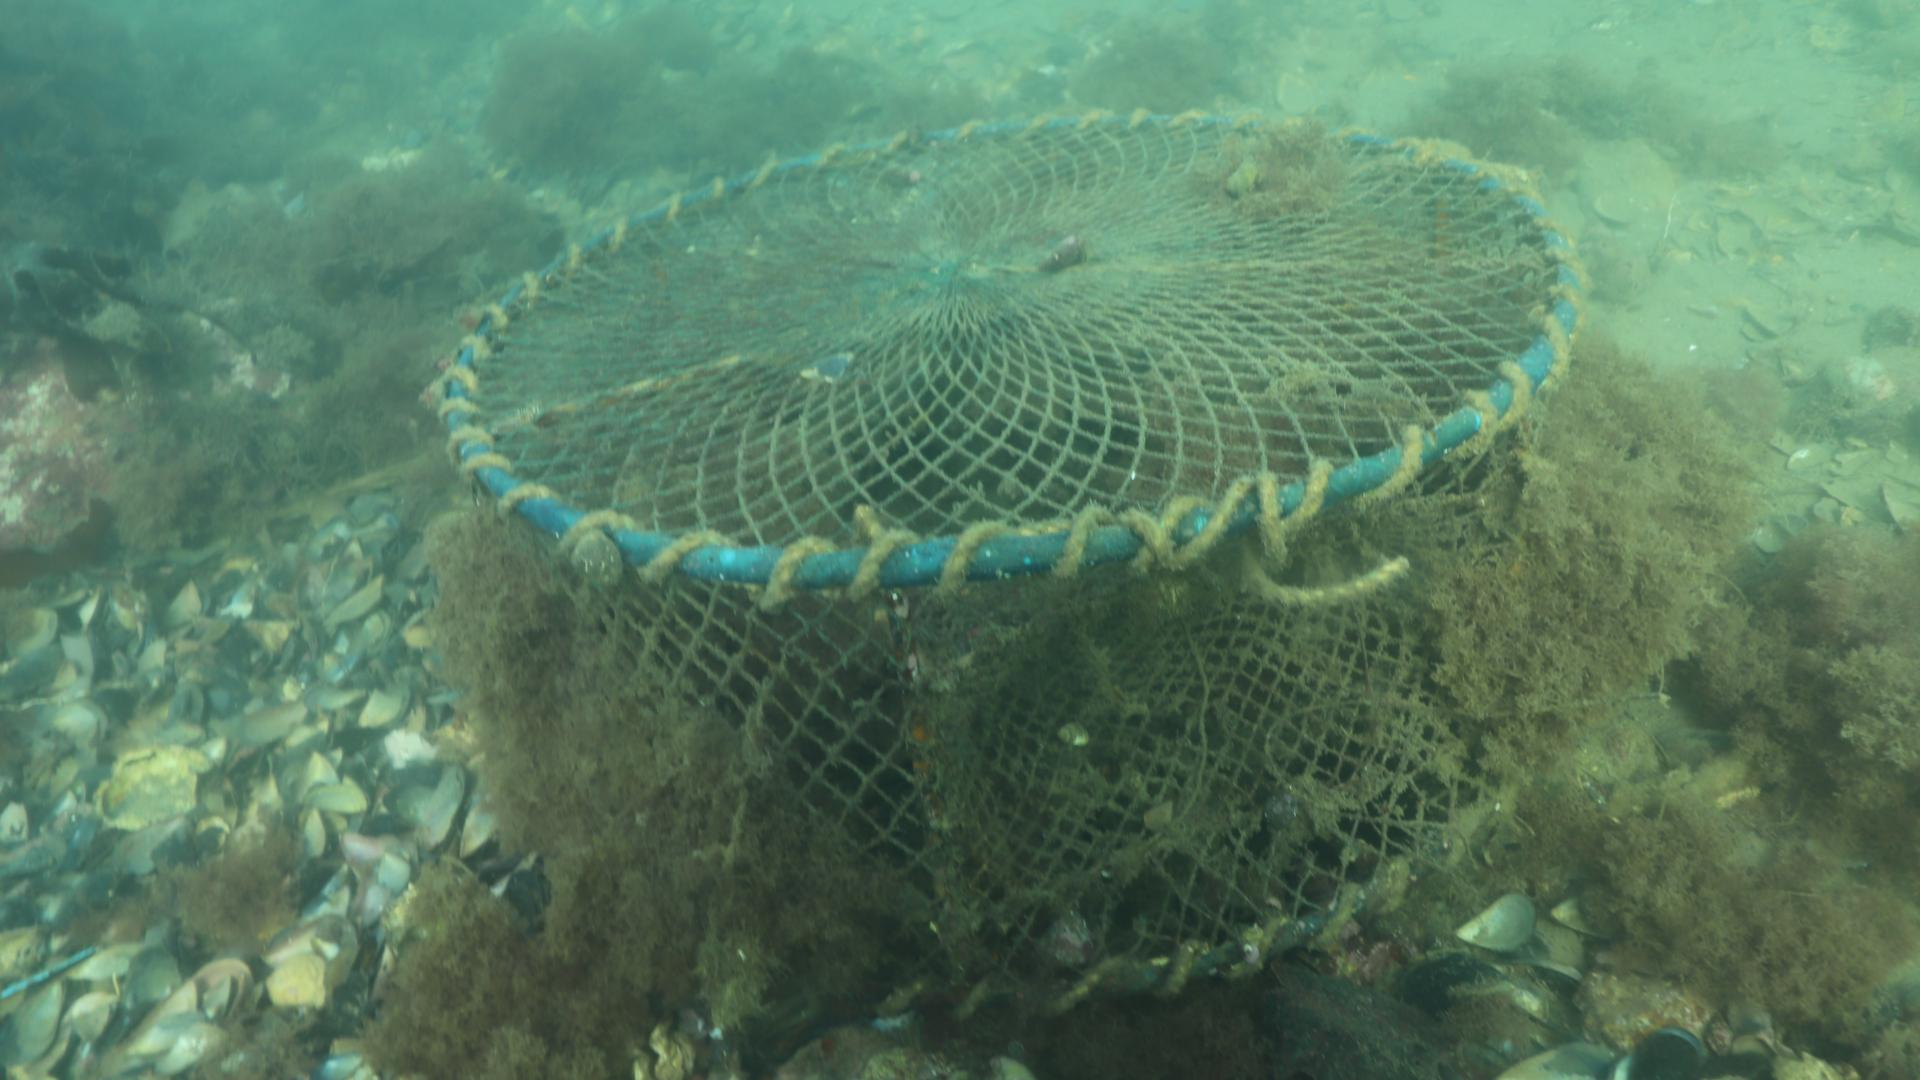circular fish trap: (439, 108, 1586, 1017)
